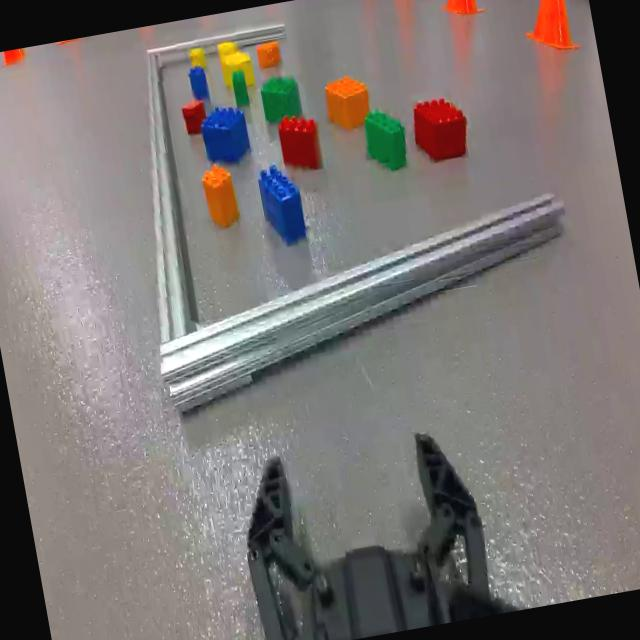block: (222, 50, 256, 90), (217, 39, 240, 69), (190, 48, 206, 71)
blue: (254, 158, 308, 248), (198, 102, 252, 166), (188, 64, 210, 100)
cone: (513, 0, 579, 58), (434, 0, 485, 22), (1, 48, 24, 66), (58, 37, 83, 45)
green: (360, 102, 409, 172), (258, 72, 304, 126), (230, 66, 250, 108)
metal barrier: (104, 0, 589, 420)
orange: (323, 70, 372, 134), (200, 162, 240, 230), (255, 41, 282, 68)
red goal: (408, 92, 472, 166), (276, 109, 324, 177), (180, 98, 208, 136)
